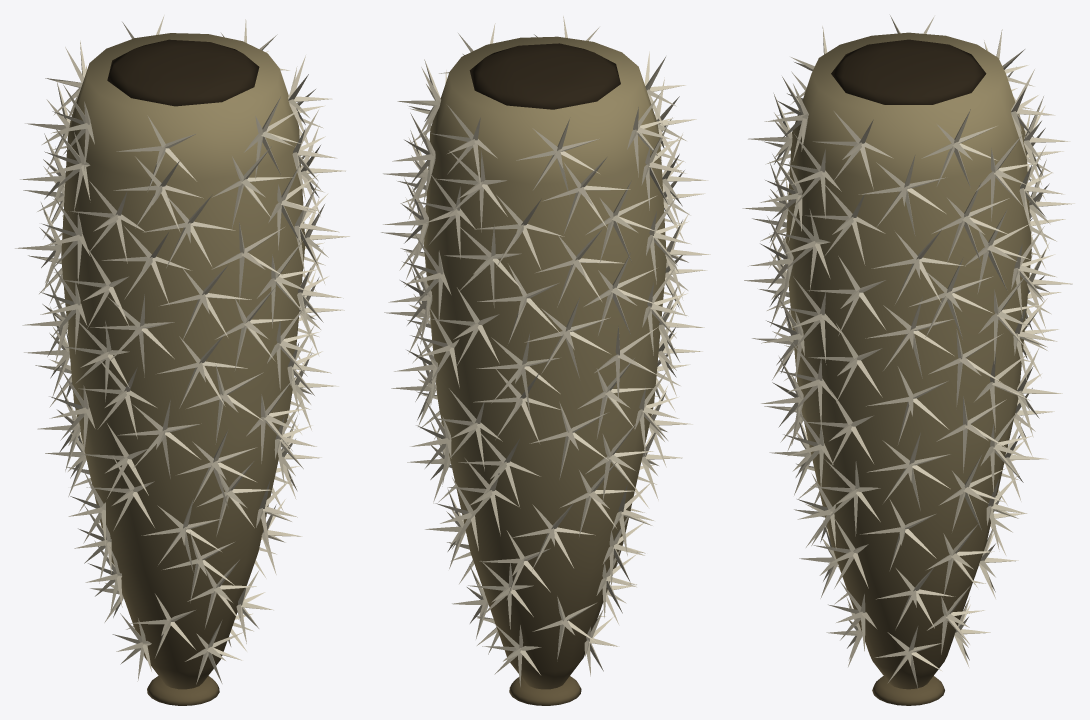
File: Chancelloria.fbx
3 views of the same model, side by side, from view 1: azimuth 30°, elevation 25°; view 2: azimuth 150°, elevation 25°; view 3: azimuth 270°, elevation 25° (orthographic).
Parts seen in each view (by area): view 1: Chancelloria; view 2: Chancelloria; view 3: Chancelloria.
Boxes of the visible parts, <box> form: Chancelloria: <box>15,15,349,705</box>; Chancelloria: <box>381,16,710,705</box>; Chancelloria: <box>742,15,1074,705</box>.
Bounding box in the file's own units: 0.5152 × 1.07 × 0.5154.
